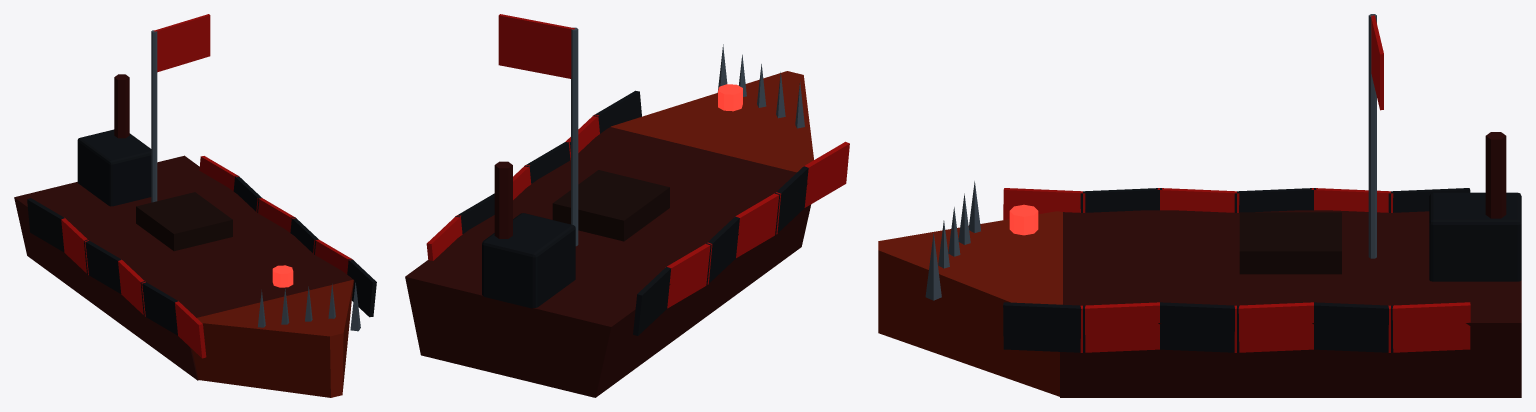
Rendered from tb_raider_skiff.three-web-toon.glb.
3 views of the same model, side by side, from view 1: azimuth 30°, elevation 25°; view 2: azimuth 150°, elevation 25°; view 3: azimuth 270°, elevation 25° (orthographic). The views are drawn at different scales.
Visible parts, largest first — view 1: raider_body; view 2: raider_body; view 3: raider_body.
Part boxes in pixels (<box>): raider_body: <box>14,14,376,397</box>; raider_body: <box>405,14,849,397</box>; raider_body: <box>878,14,1521,397</box>.
Size of the model in its own units: 2.79 by 3.6 by 6.27.
